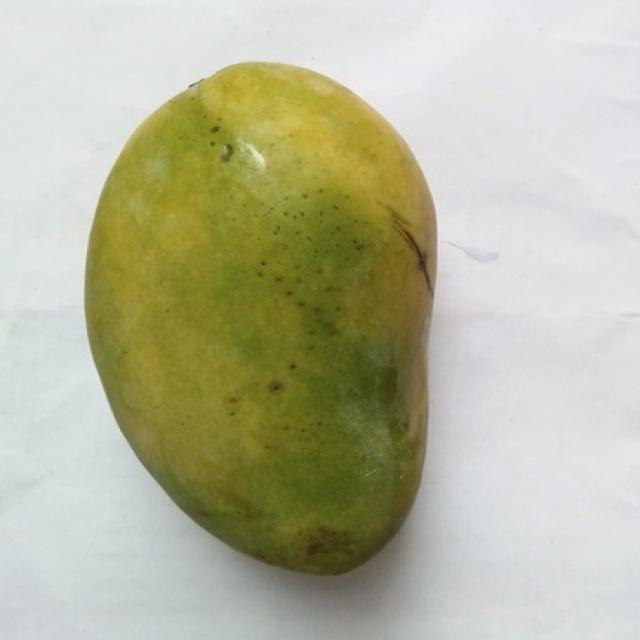Mango: (85, 63, 435, 573)
